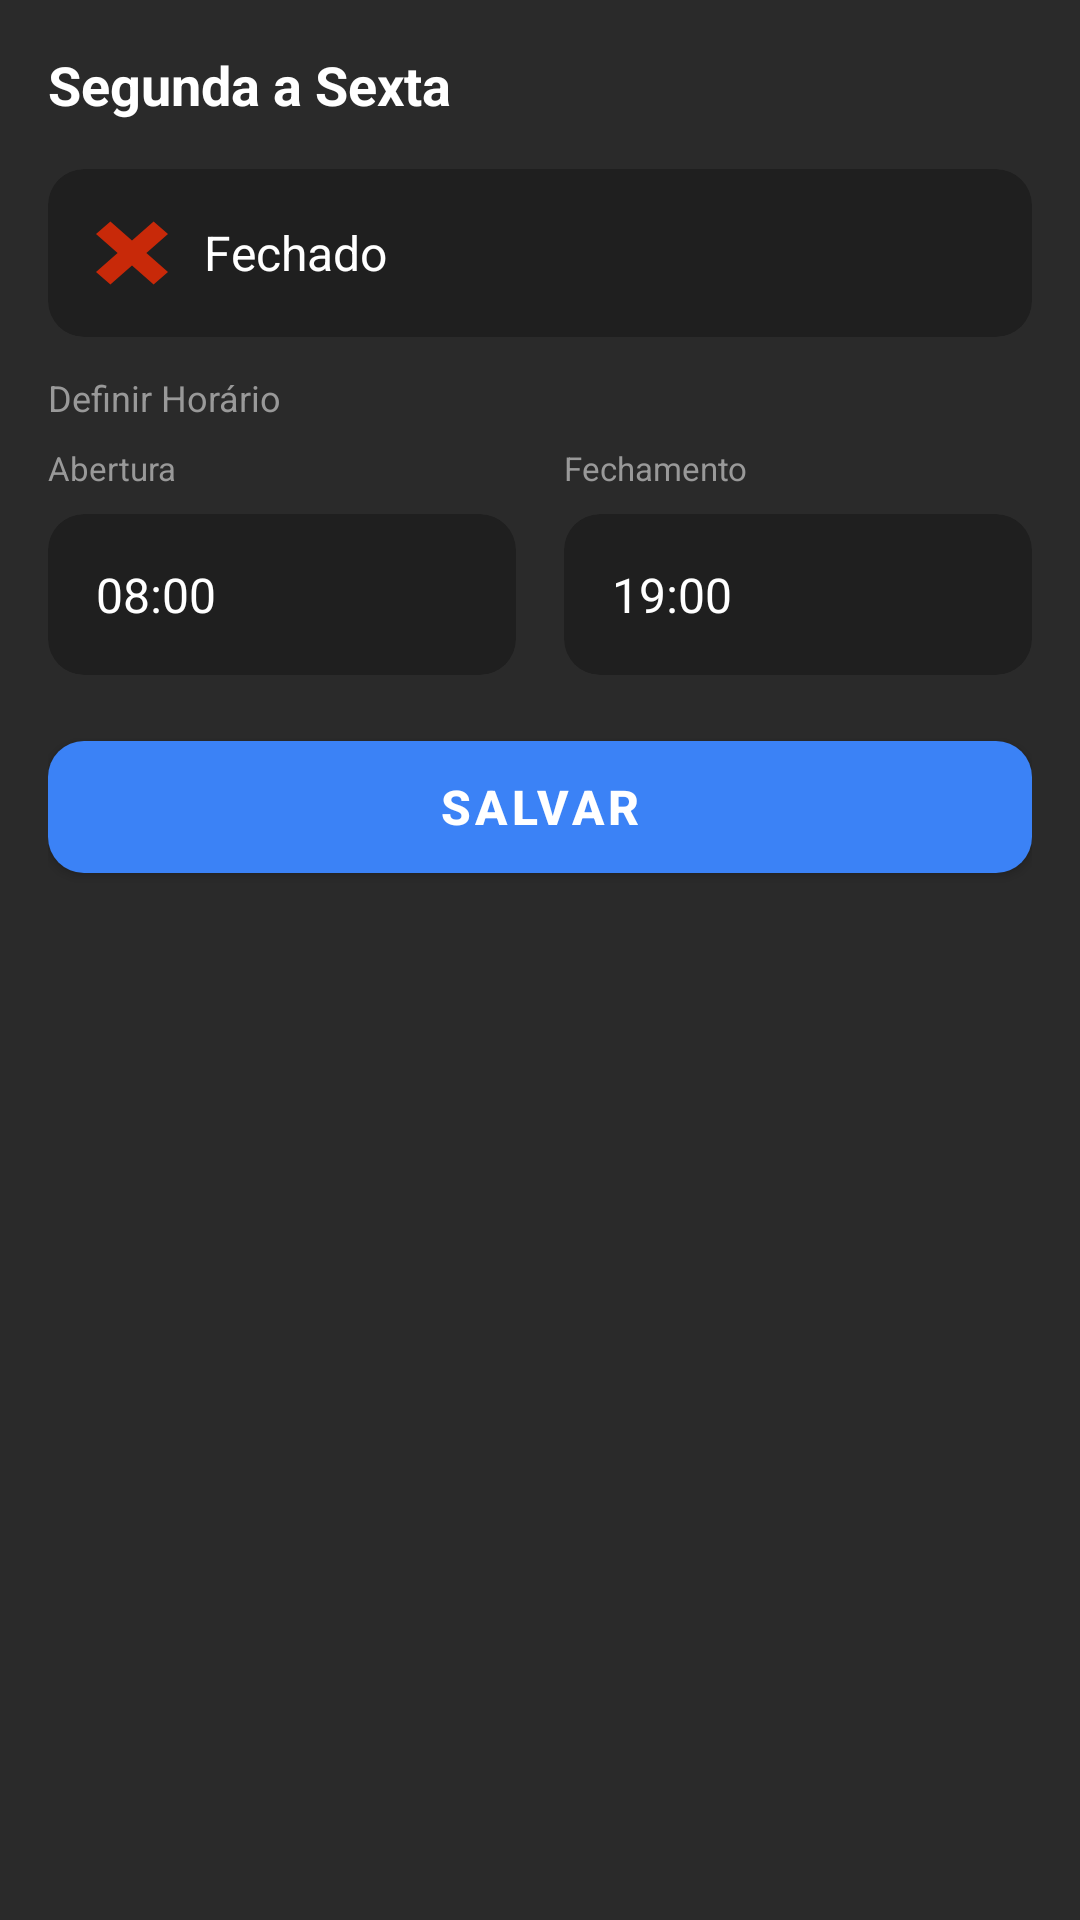

Where to tap for icons on this 1080x1920 app screen, as (x,y):
close: (132,253)
